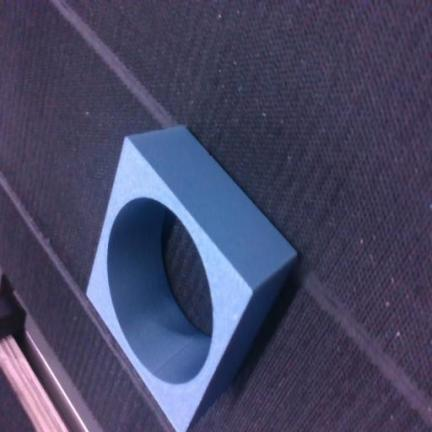hole: (88, 127, 295, 431)
